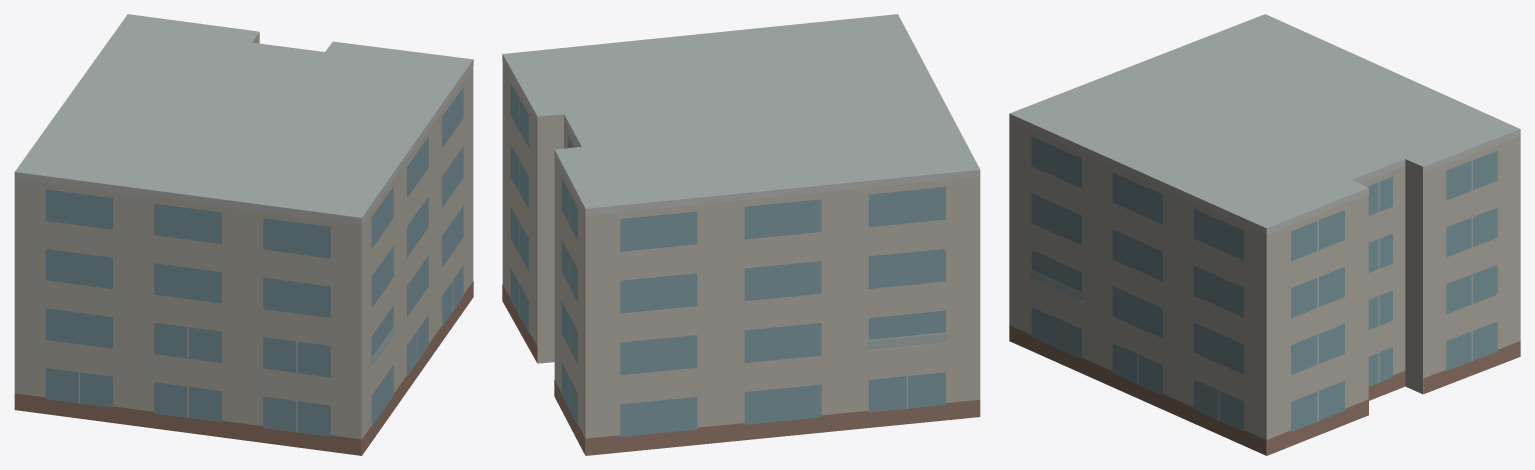
File: survey-upis-32951671.glb
The picture shows the model from 3 angles, left to right: view 1: azimuth 30°, elevation 25°; view 2: azimuth 150°, elevation 25°; view 3: azimuth 270°, elevation 25°; orthographic projection. The views are drawn at different scales.
Parts seen in each view (by area): view 1: survey-upis-32951671.tmp; view 2: survey-upis-32951671.tmp; view 3: survey-upis-32951671.tmp.
Boxes of the visible parts, bbox=[...] form: survey-upis-32951671.tmp: bbox=[14, 14, 473, 455]; survey-upis-32951671.tmp: bbox=[502, 14, 980, 455]; survey-upis-32951671.tmp: bbox=[1009, 14, 1520, 455].
Size of the model in its own units: 17.08 by 8.45 by 17.22.
